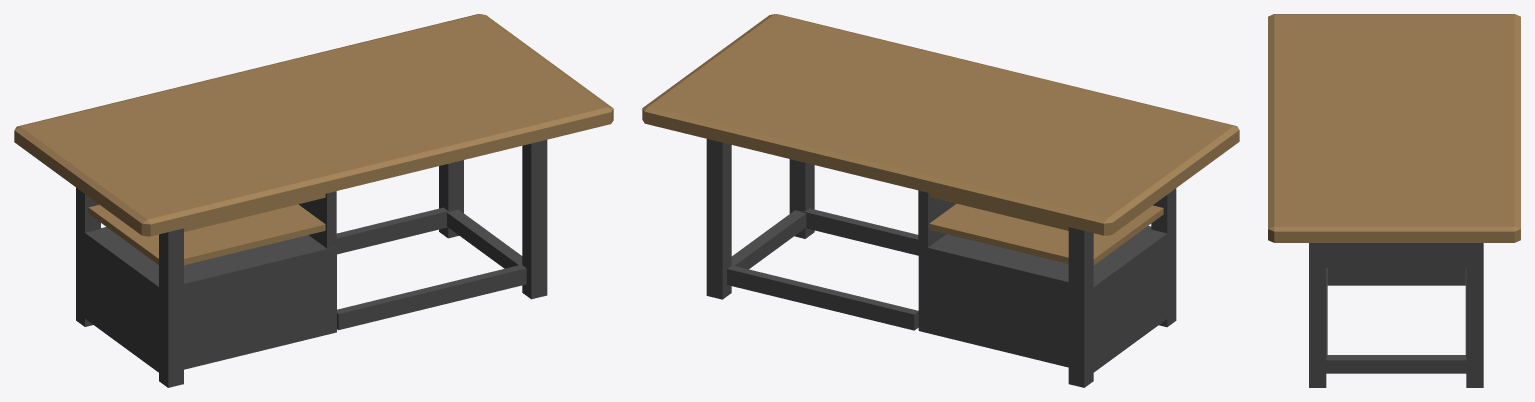
File: table.fbx
3 renders of one model, left to right at view 1: azimuth 30°, elevation 25°; view 2: azimuth 150°, elevation 25°; view 3: azimuth 270°, elevation 25°, orthographic. The views are drawn at different scales.
Parts seen in each view (by area): view 1: pCube1, pCube6, pCube10, pCube14, pCube3, pCube5, pCube13, pCube15, pCube4, pCube2, pCube8, pCube12; view 2: pCube1, pCube6, pCube10, pCube13, pCube4, pCube2, pCube14, pCube15, pCube5, pCube3, pCube8, pCube12; view 3: pCube1, pCube6, pCube15, pCube2, pCube3.
Boxes of the visible parts, bbox=[...] form: pCube1: bbox=[14, 14, 613, 236]; pCube6: bbox=[84, 227, 336, 374]; pCube10: bbox=[88, 204, 325, 265]; pCube14: bbox=[337, 264, 526, 330]; pCube3: bbox=[522, 140, 547, 299]; pCube5: bbox=[159, 228, 183, 387]; pCube13: bbox=[336, 207, 451, 254]; pCube15: bbox=[447, 209, 522, 268]; pCube4: bbox=[76, 187, 100, 326]; pCube2: bbox=[439, 160, 463, 238]; pCube8: bbox=[299, 191, 336, 248]; pCube12: bbox=[184, 194, 325, 231]; pCube1: bbox=[642, 14, 1239, 235]; pCube6: bbox=[918, 226, 1170, 372]; pCube10: bbox=[929, 203, 1163, 265]; pCube13: bbox=[727, 265, 918, 330]; pCube4: bbox=[1068, 227, 1093, 387]; pCube2: bbox=[706, 139, 731, 299]; pCube14: bbox=[801, 208, 918, 255]; pCube15: bbox=[731, 210, 806, 269]; pCube5: bbox=[1151, 188, 1176, 327]; pCube3: bbox=[789, 159, 814, 238]; pCube8: bbox=[918, 190, 955, 248]; pCube12: bbox=[929, 193, 1068, 230]; pCube1: bbox=[1268, 14, 1520, 242]; pCube6: bbox=[1326, 243, 1466, 285]; pCube15: bbox=[1326, 355, 1466, 373]; pCube2: bbox=[1466, 243, 1483, 387]; pCube3: bbox=[1309, 243, 1326, 387].
Bounding box in the file's own units: 12.6 × 4.89 × 6.19.
